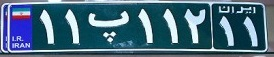1: (61, 6, 85, 47), (160, 5, 182, 47), (37, 7, 60, 46), (135, 6, 157, 46), (217, 13, 239, 49), (240, 13, 261, 49)
2: (182, 4, 209, 46)
پ: (86, 8, 133, 45)
